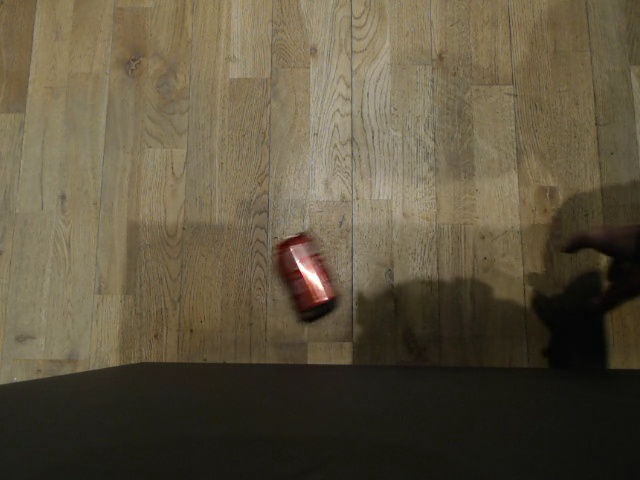cola: (270, 230, 335, 314)
